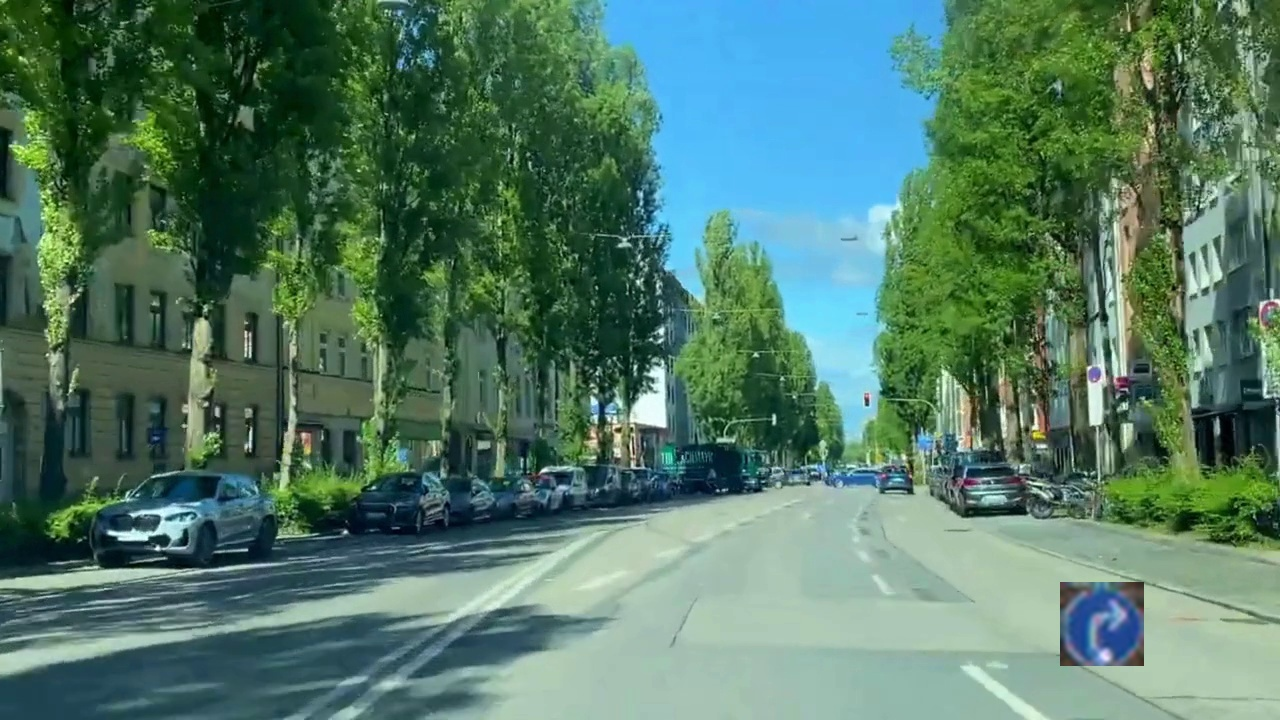Turn right: (1060, 582, 1144, 666)
